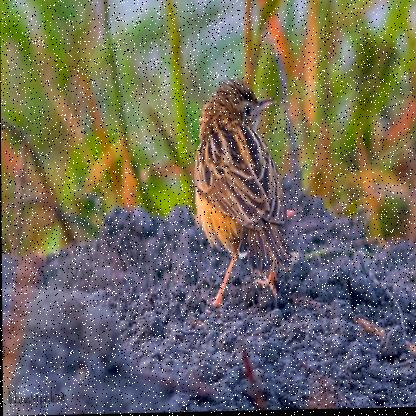Burung: (195, 77, 297, 312)
